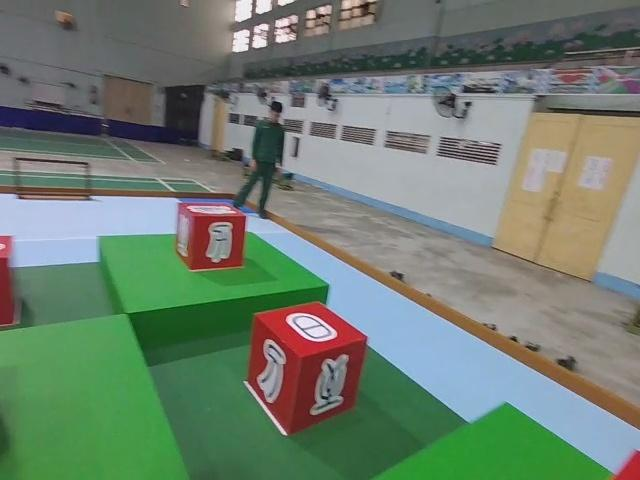R2 Fake: (244, 299, 370, 437), (172, 198, 248, 273)
